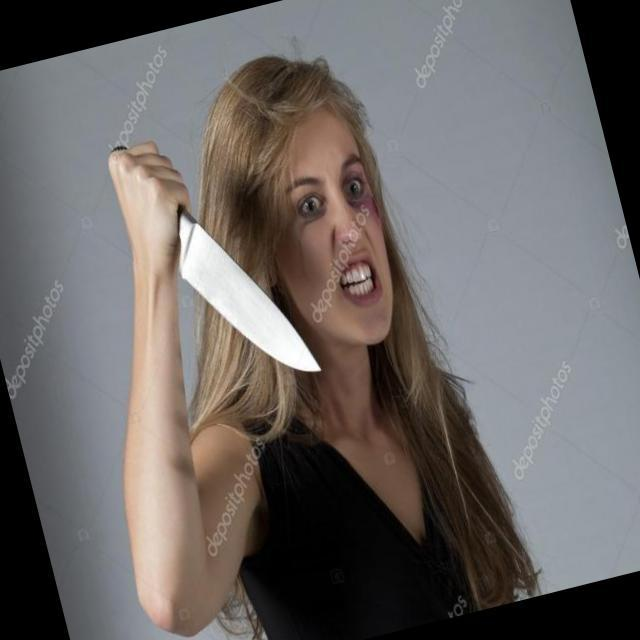Knife: (128, 112, 330, 414)
